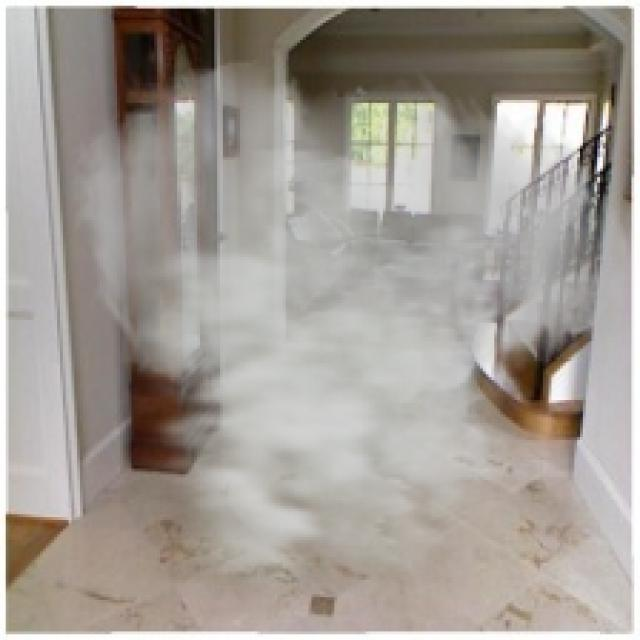smoke: (66, 57, 634, 614)
